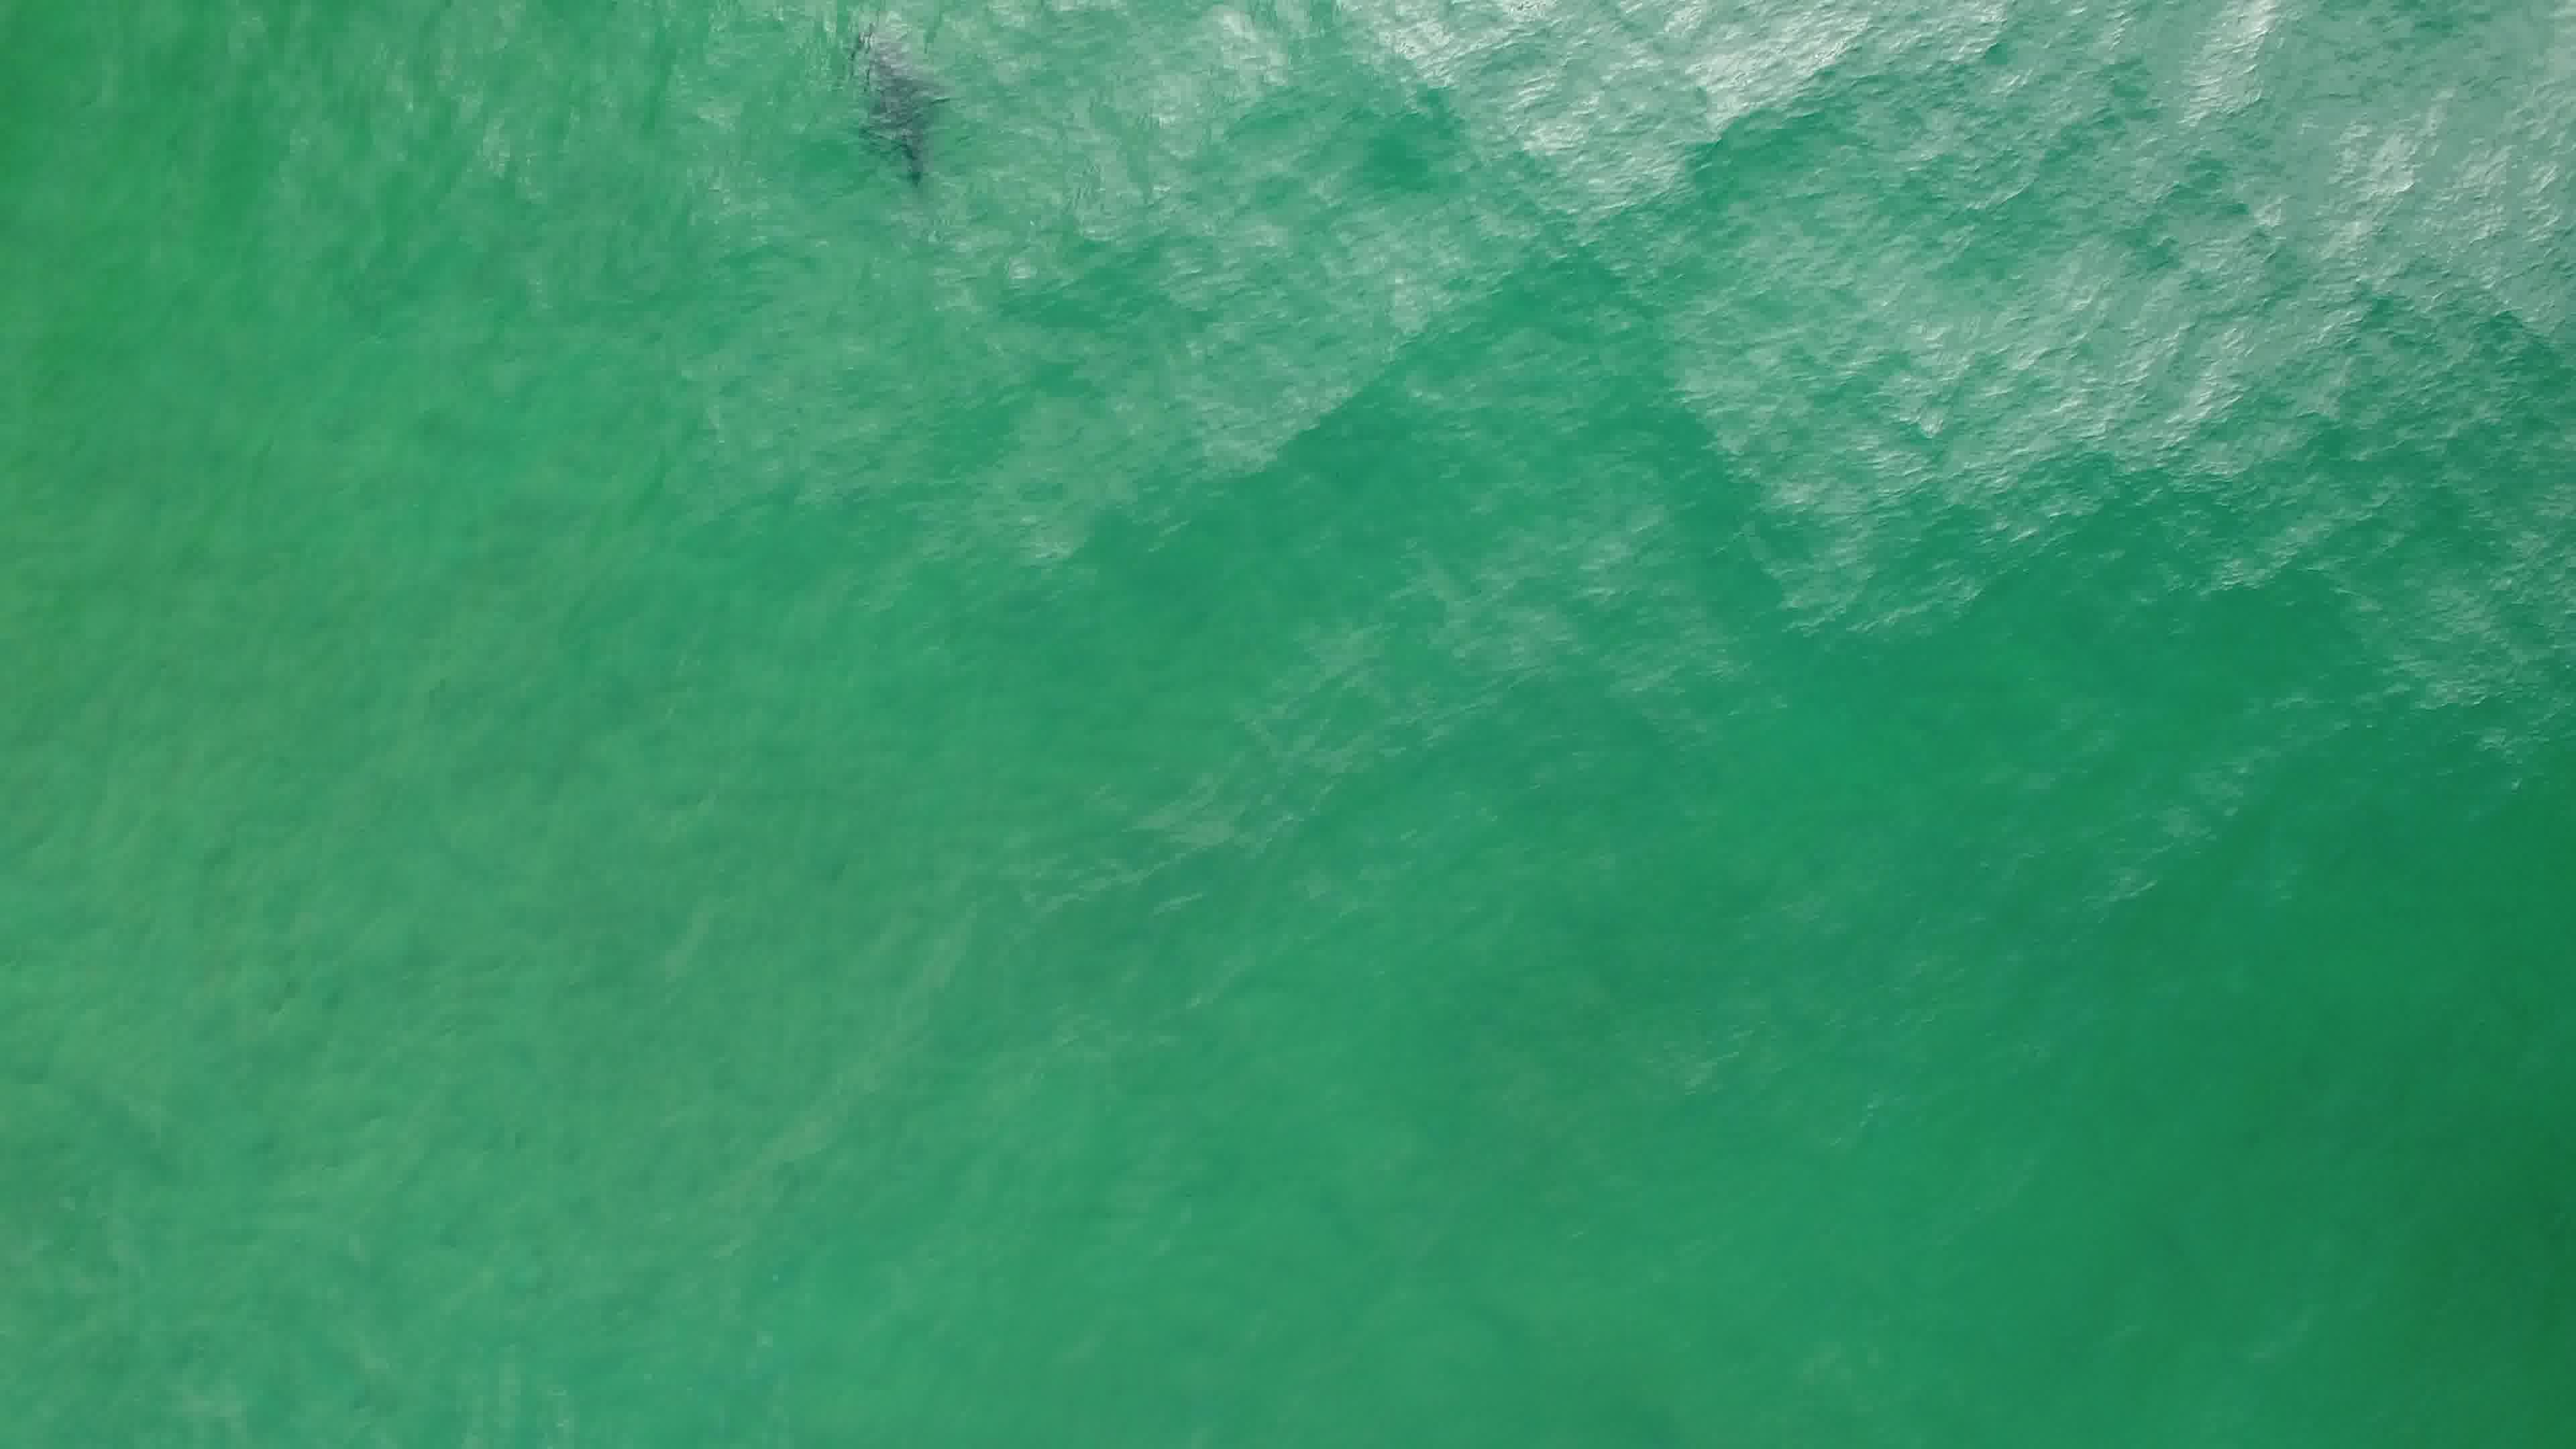shark: (819, 5, 955, 196)
